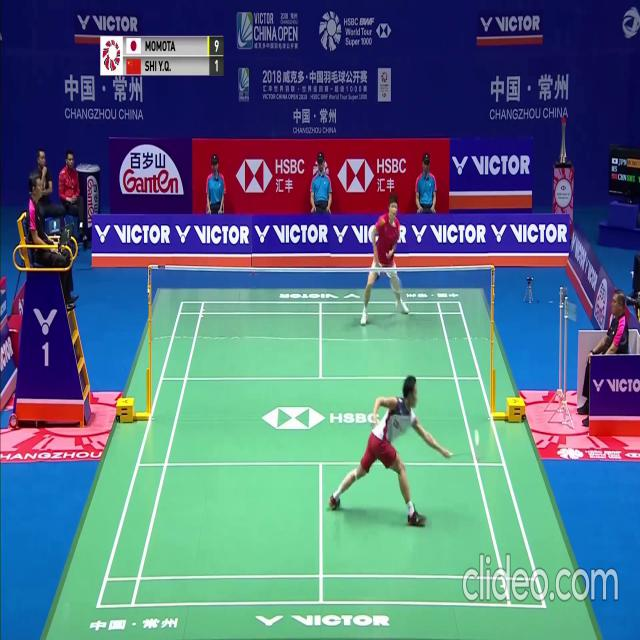Shuttlecock: (475, 434, 480, 442)
